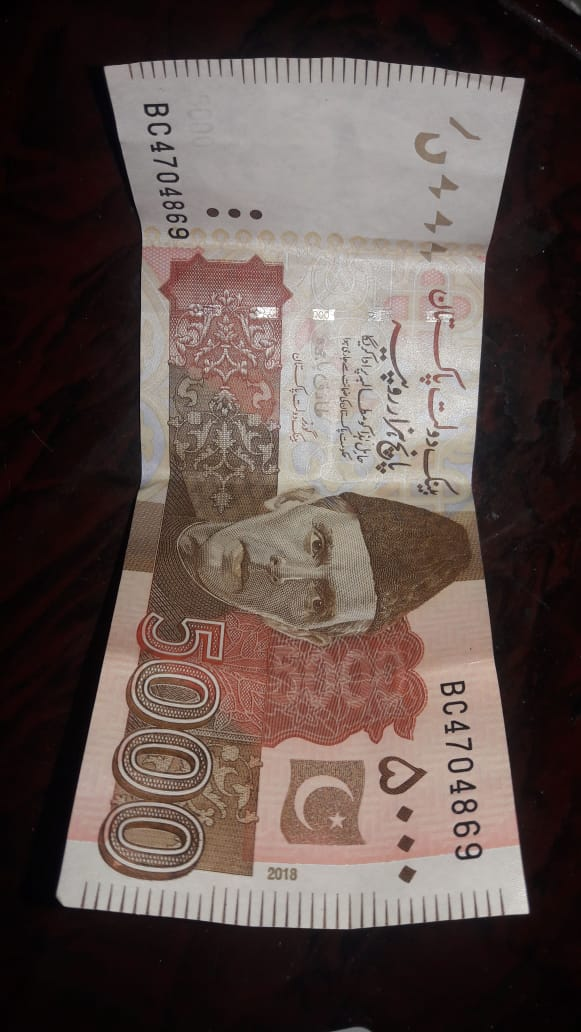5000 rupee: (58, 48, 565, 946)
